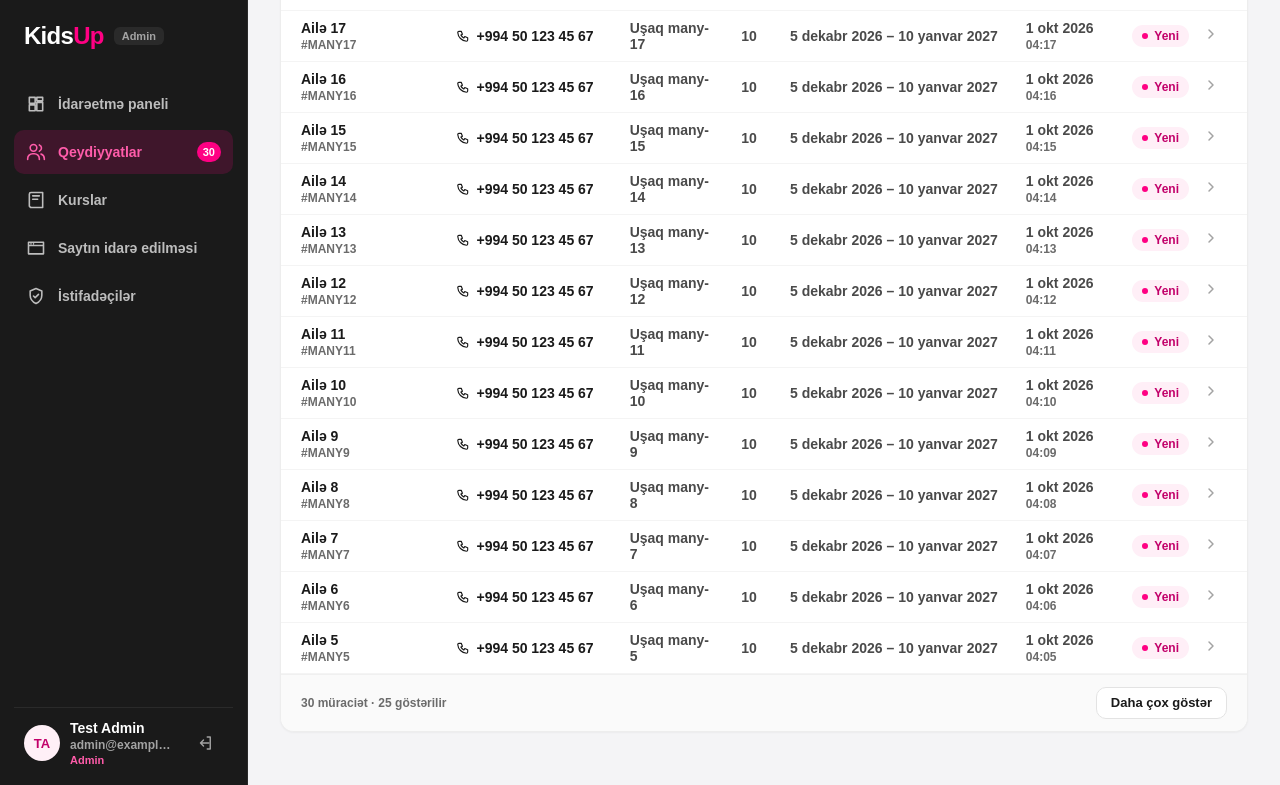
Test: the list › loads the next page on request
This screenshot has width=1280, height=785.
(page scrolled)
Expected: the navigation bar named "Admin menyu" is shown, [14, 82, 233, 318]
Expected: the text "30 müraciət · 25 göstərilir" is shown, [301, 696, 446, 710]
Click the button "Daha çox göstər" at (1161, 703), box [1096, 687, 1227, 719]
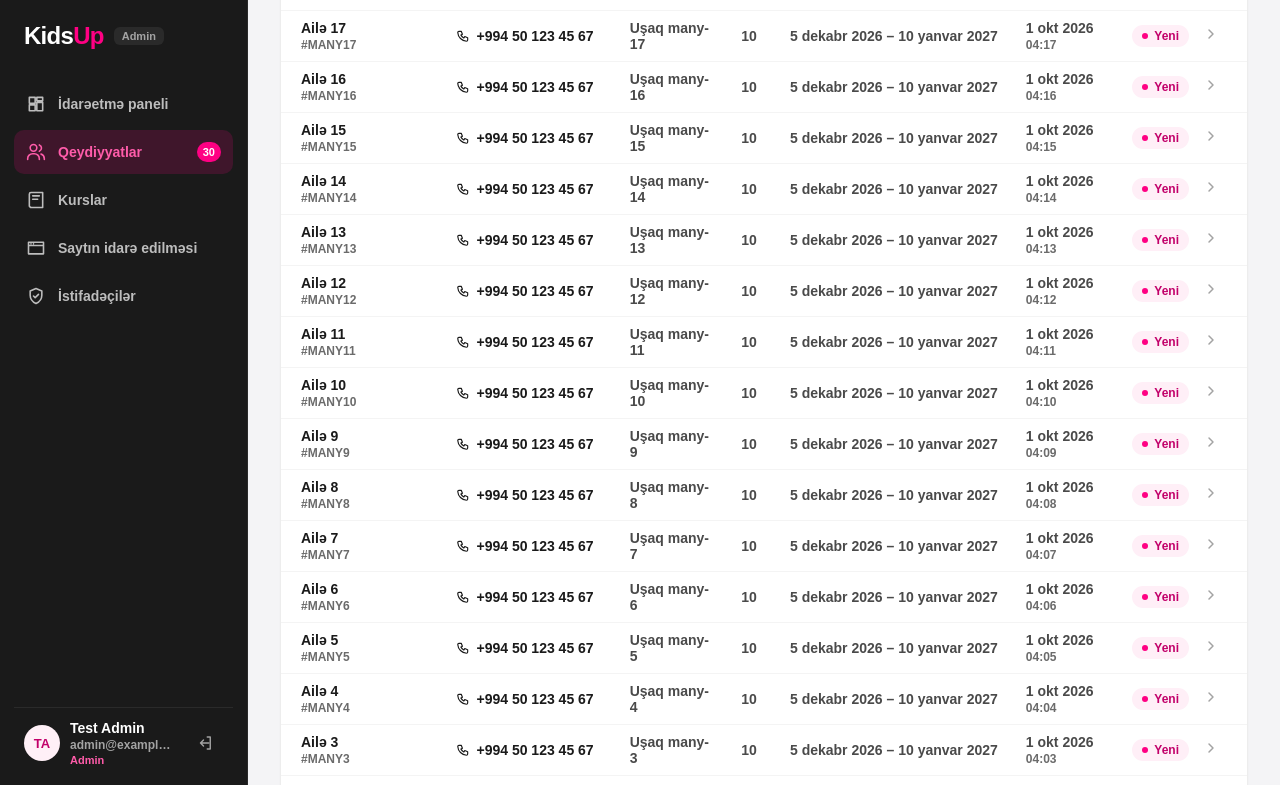
Expected: the button "Daha çox göstər" is gone
